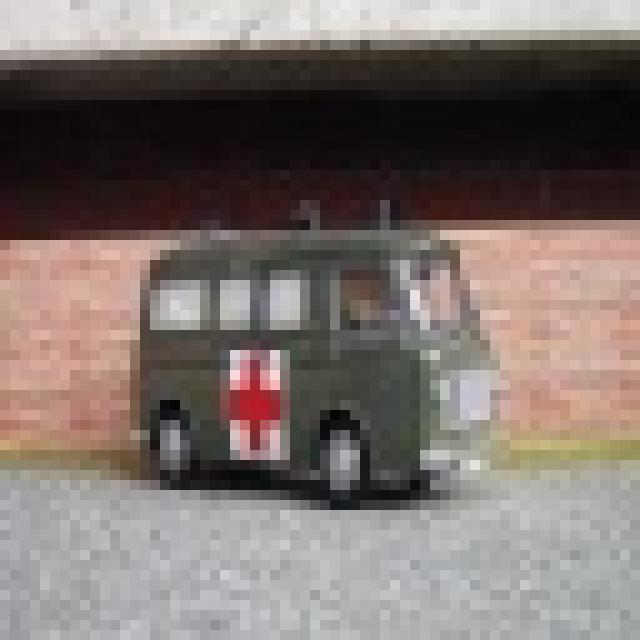Ambulance: (130, 190, 500, 500)
